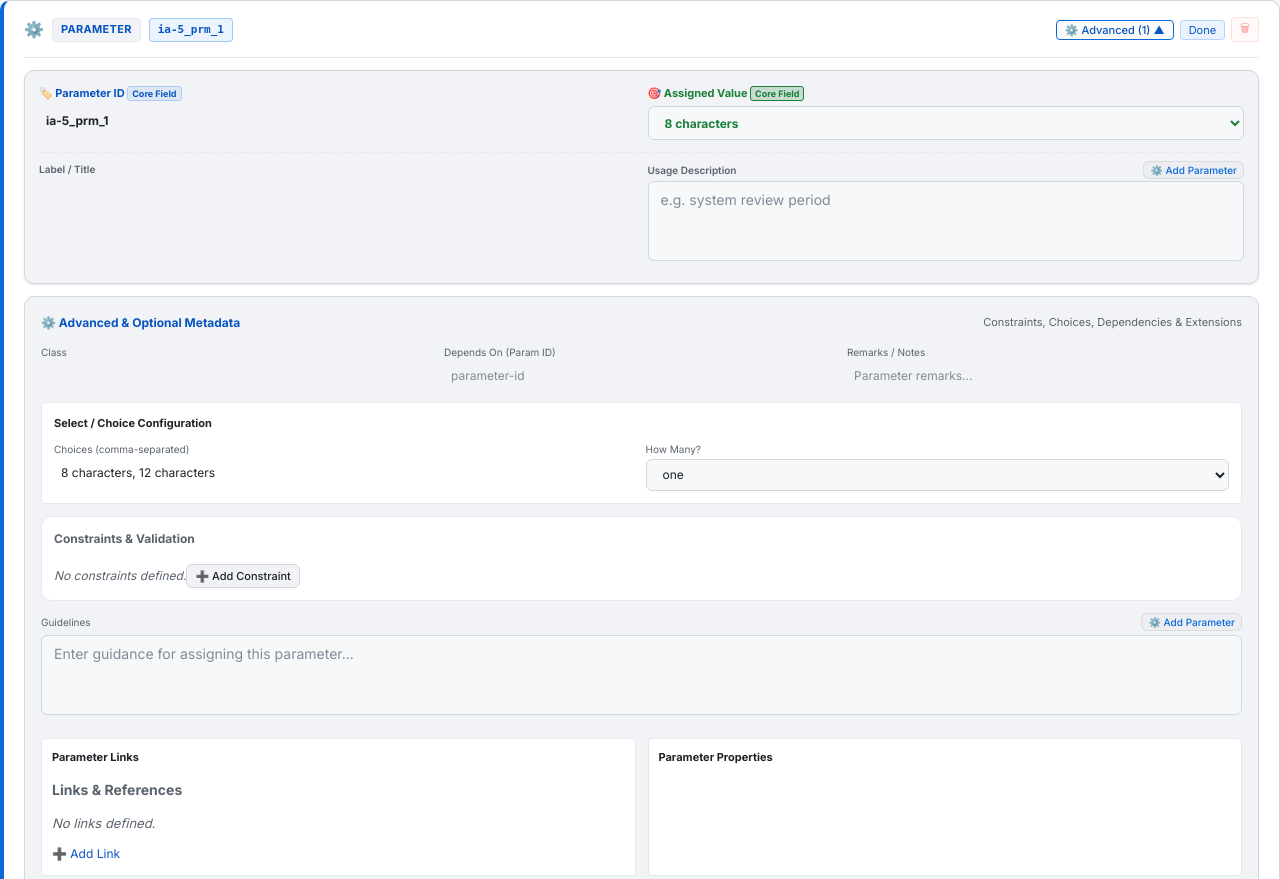
Test: ParameterCard Component › Single & Multi Choice Selection › shows custom value input when Custom Value... option is selected in choice dropdown
Select "✏️ Custom Value (Freitext)..." in the dropdown below "🎯 Assigned Value" at (946, 123), box [648, 106, 1244, 140]
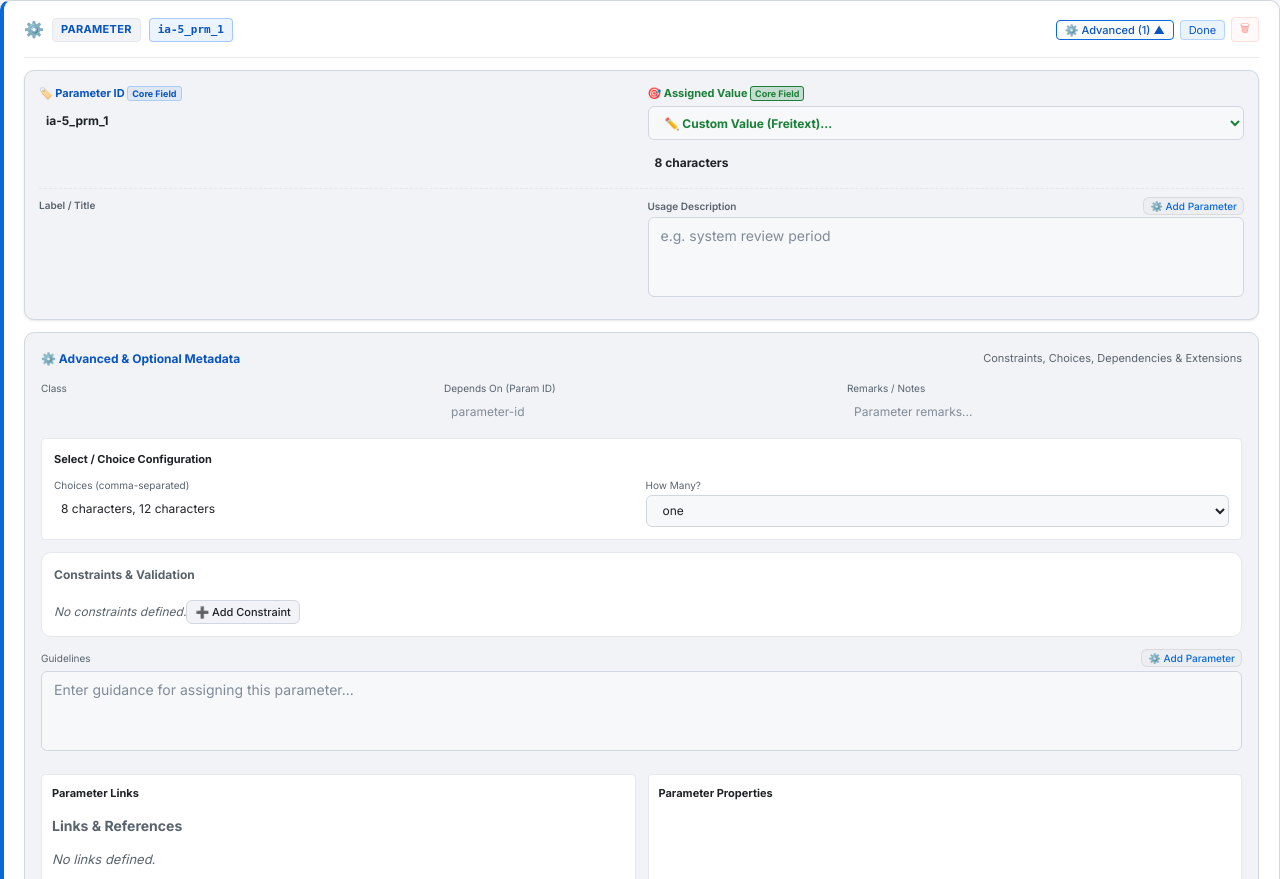
Expected: the field with placeholder "Enter custom parameter value..." below "🎯 Assigned Value" is shown, [648, 148, 1244, 176]
